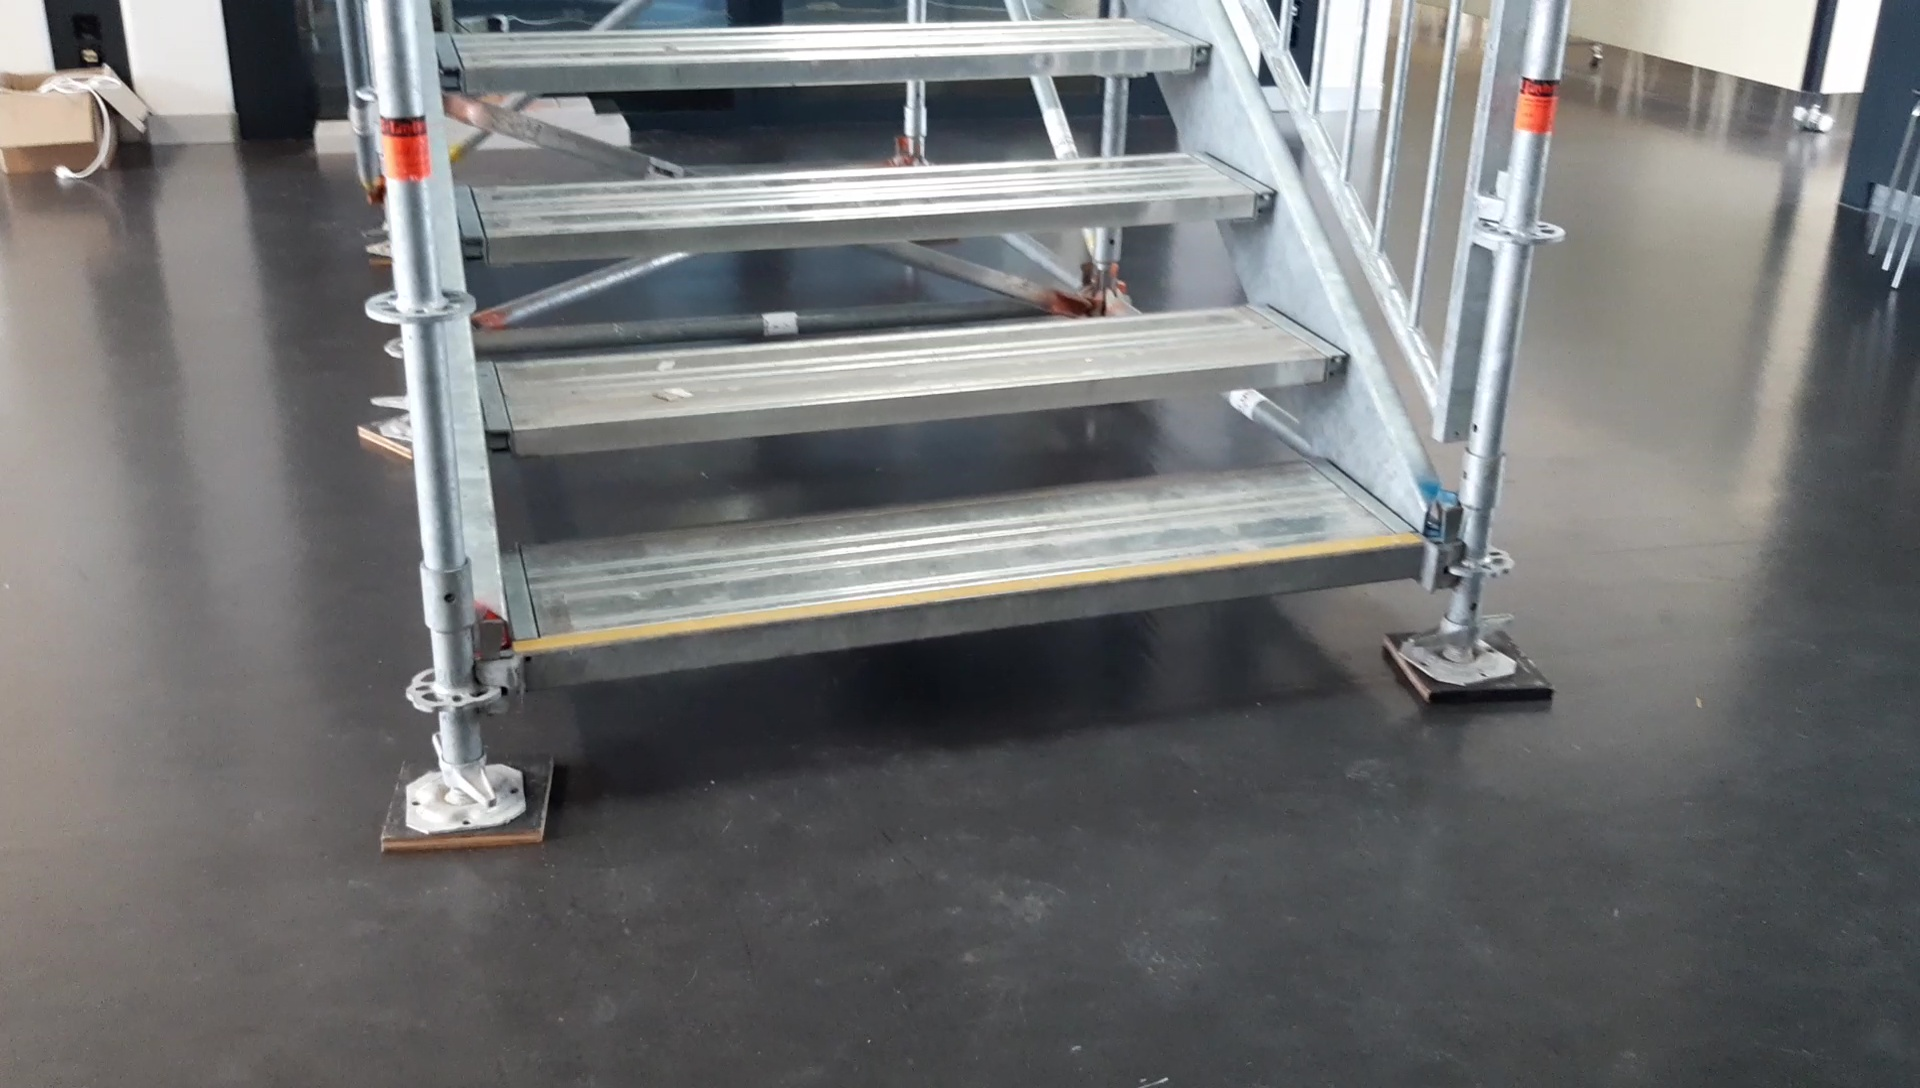edge: (517, 538, 1423, 690), (487, 353, 1345, 454), (460, 189, 1276, 260), (443, 41, 1212, 88)
stairs: (377, 7, 1553, 839)
